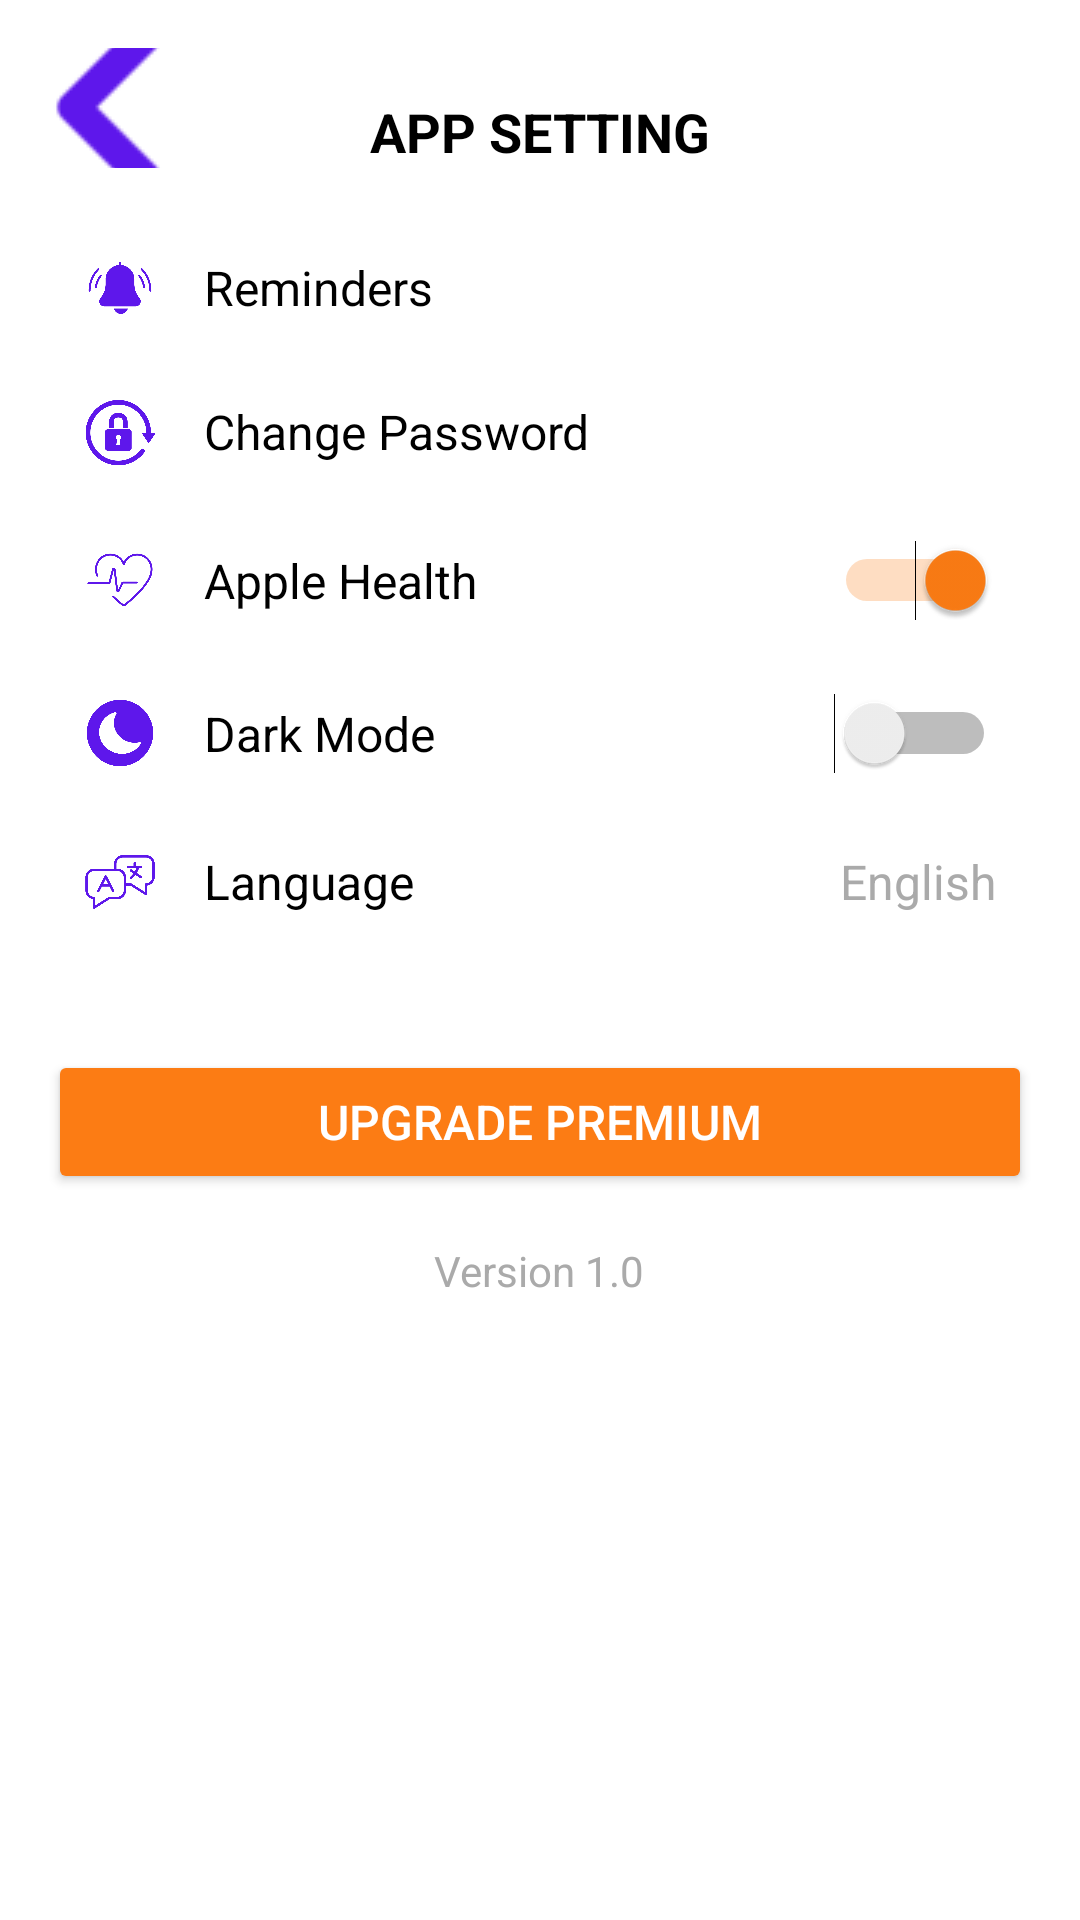

Named icons in this screenshot (1080×1920) and their bounding boxes, [x1=x1, y1=y1, x2=x2, y2=y2]:
Back: [x1=56, y1=48, x2=160, y2=168]
